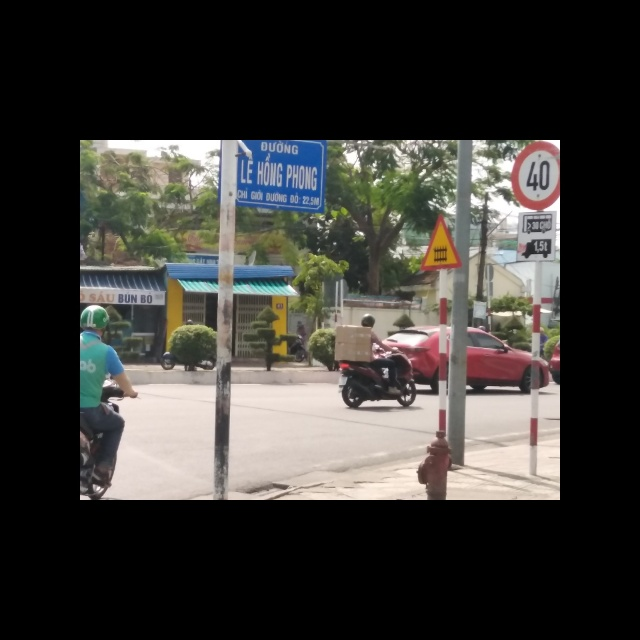Giao nhau với đường sắt có rào chắn: (420, 214, 461, 271)
Tốc độ tối đa cho phép 40km/h: (511, 141, 560, 209)
